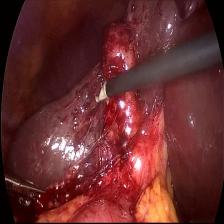Grasper: (0, 162, 48, 214)
Hook: (89, 73, 109, 113)
